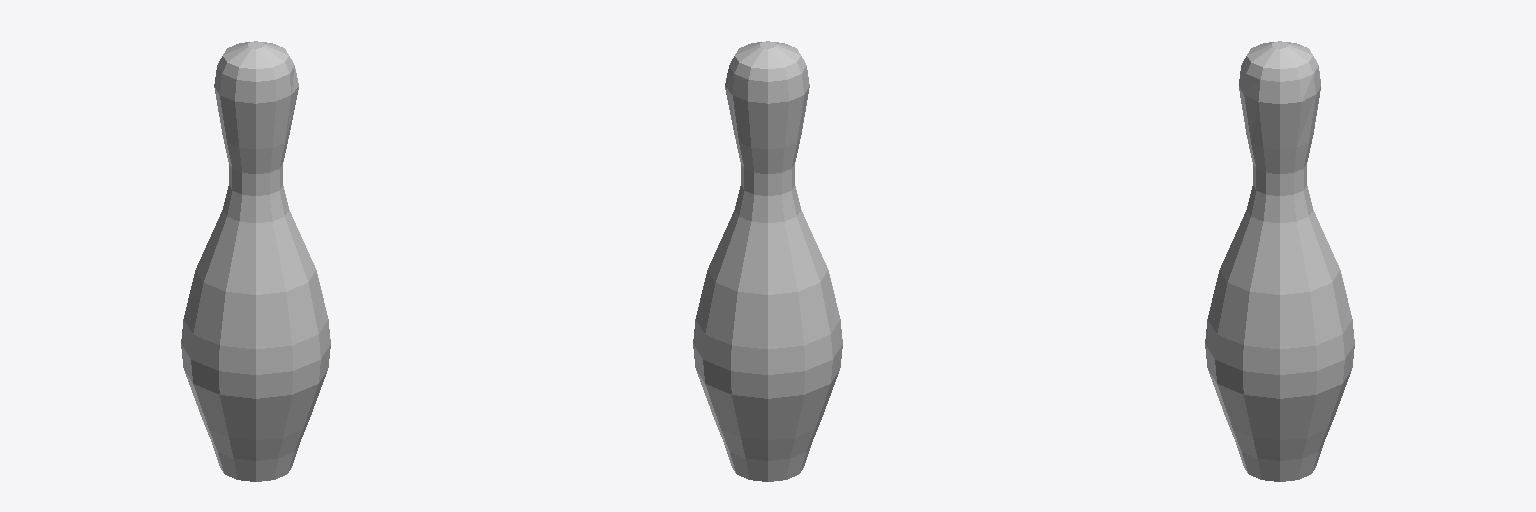
File: pin.obj
3 views of the same model, side by side, from view 1: azimuth 30°, elevation 25°; view 2: azimuth 150°, elevation 25°; view 3: azimuth 270°, elevation 25° (orthographic).
Visible parts, largest first — view 1: Cylinder; view 2: Cylinder; view 3: Cylinder.
Part boxes in pixels (bbox=[...]): Cylinder: bbox=[181, 41, 330, 481]; Cylinder: bbox=[693, 41, 842, 481]; Cylinder: bbox=[1205, 41, 1354, 481].
Bounding box in the file's own units: 0.0496 × 0.154 × 0.0496.